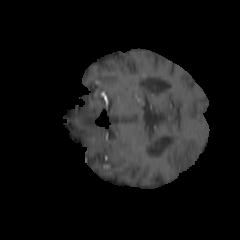glioma: (160, 137, 199, 173)
